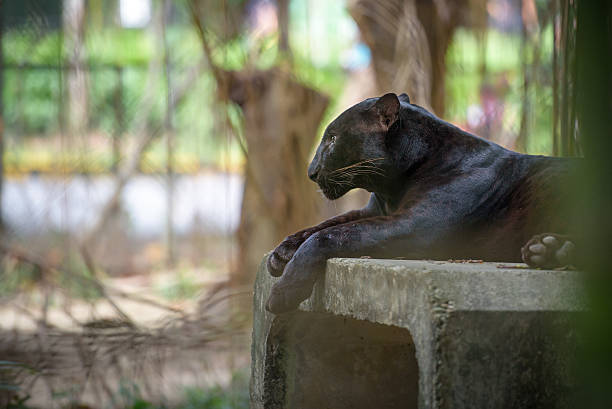panther: (285, 89, 450, 215)
